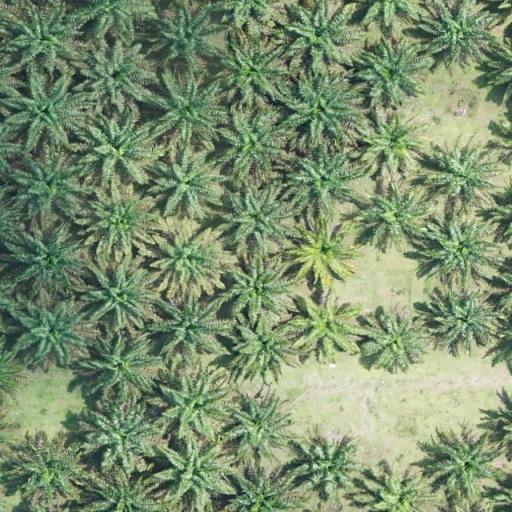Ganoderma: (294, 302, 350, 351), (295, 229, 352, 276)
